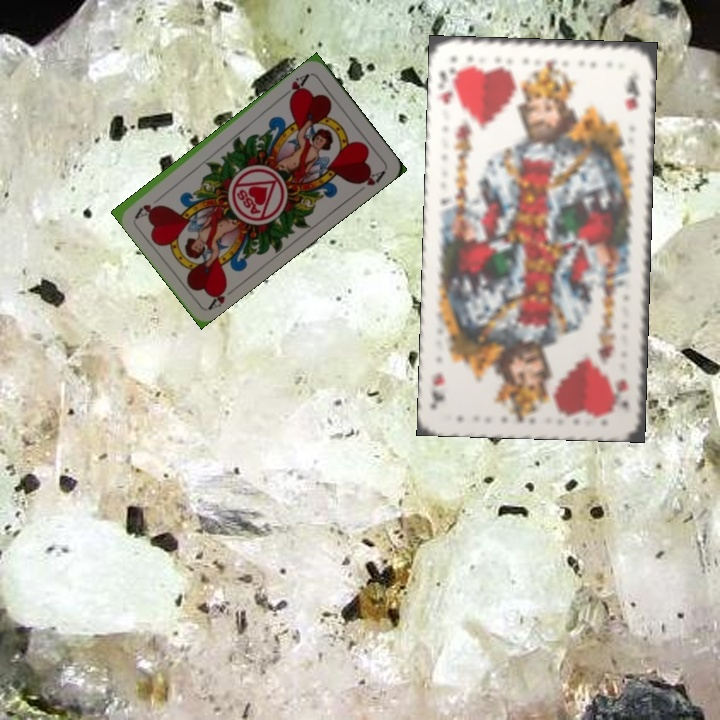HA: (279, 69, 312, 102), (204, 280, 230, 312)
HK: (434, 63, 462, 108), (612, 374, 631, 410)
